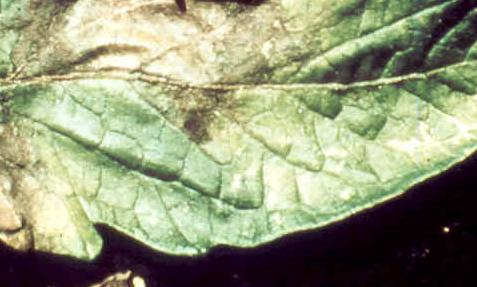Tomato leaf late blight: (0, 0, 477, 277)
